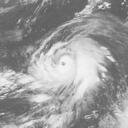cyclone: (32, 35, 104, 92)
